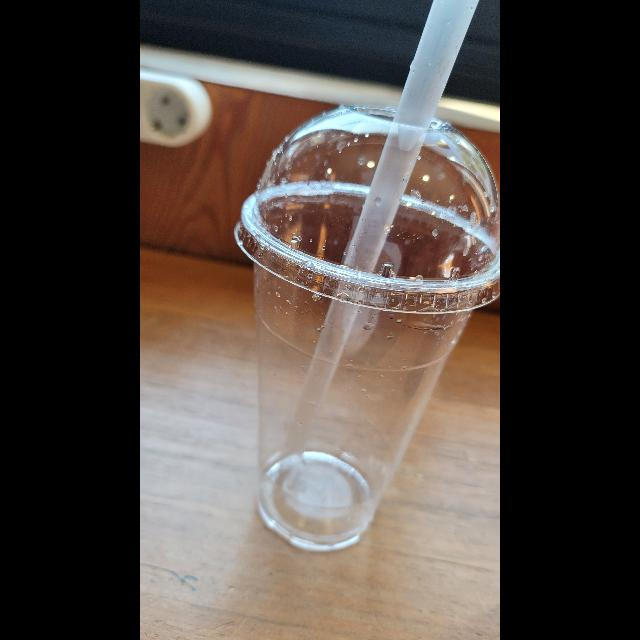plastic_cup: (238, 100, 500, 552)
plastic_cup_lid: (238, 101, 500, 316)
straw: (288, 0, 470, 470)
